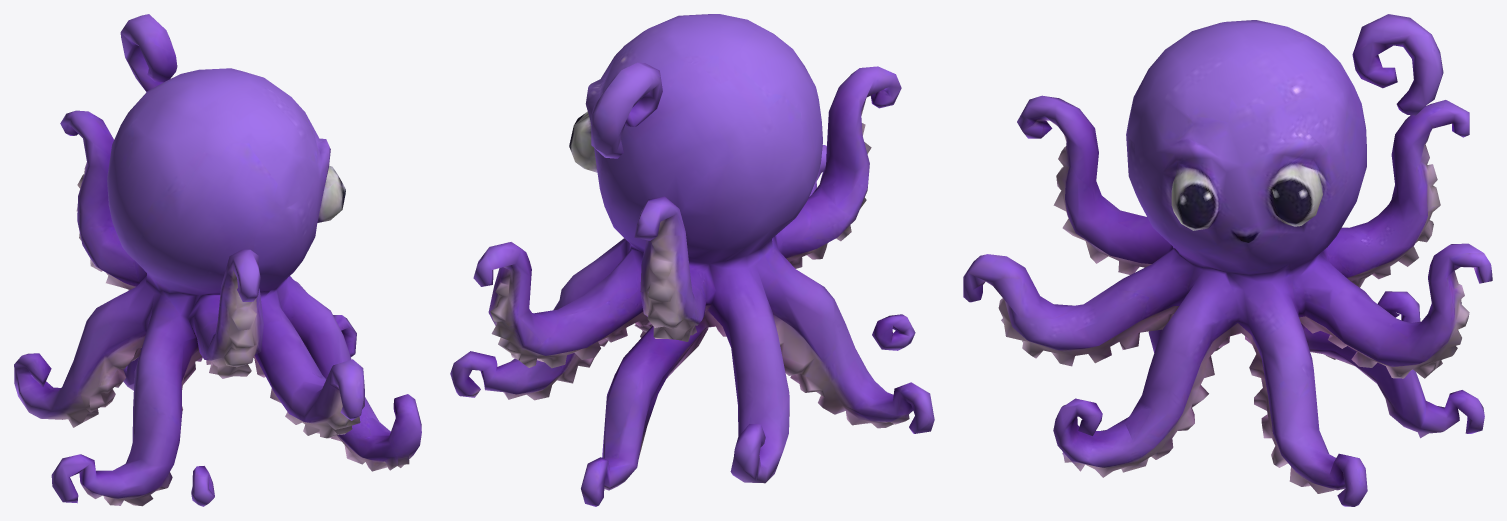
Rendered from octopus.glb.
The picture shows the model from 3 angles, left to right: view 1: azimuth 30°, elevation 25°; view 2: azimuth 150°, elevation 25°; view 3: azimuth 270°, elevation 25°; orthographic projection. The views are drawn at different scales.
Visible parts, largest first — view 1: tripo_node_b4a54f5e-38fe-410c-96dd-4a071203cb5e; view 2: tripo_node_b4a54f5e-38fe-410c-96dd-4a071203cb5e; view 3: tripo_node_b4a54f5e-38fe-410c-96dd-4a071203cb5e.
Boxes of the visible parts, x1=… form: tripo_node_b4a54f5e-38fe-410c-96dd-4a071203cb5e: x1=14, y1=14, x2=421, y2=506; tripo_node_b4a54f5e-38fe-410c-96dd-4a071203cb5e: x1=450, y1=14, x2=934, y2=506; tripo_node_b4a54f5e-38fe-410c-96dd-4a071203cb5e: x1=963, y1=14, x2=1492, y2=506.
Size of the model in its own units: 0.8896 by 0.8658 by 1.
Materials: 1 (1 with a texture image).
